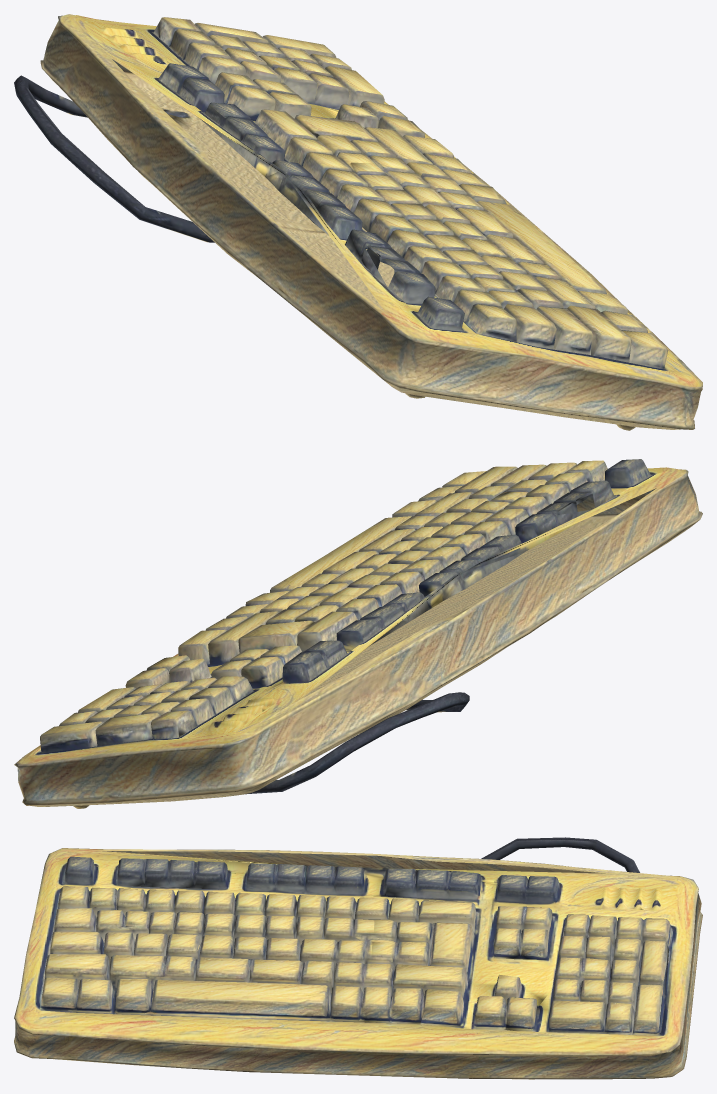
The model's file is SchoolKeyboard.fbx.
3 views of the same model, one above another, from view 1: azimuth 30°, elevation 25°; view 2: azimuth 150°, elevation 25°; view 3: azimuth 270°, elevation 25° (orthographic). The views are drawn at different scales.
Visible parts, largest first — view 1: tripo_node_e017a942-0e1a-43bb-ab1a-f99db1cb40b1; view 2: tripo_node_e017a942-0e1a-43bb-ab1a-f99db1cb40b1; view 3: tripo_node_e017a942-0e1a-43bb-ab1a-f99db1cb40b1.
Part boxes in pixels (x1=…): tripo_node_e017a942-0e1a-43bb-ab1a-f99db1cb40b1: x1=14, y1=14, x2=702, y2=430; tripo_node_e017a942-0e1a-43bb-ab1a-f99db1cb40b1: x1=14, y1=459, x2=702, y2=808; tripo_node_e017a942-0e1a-43bb-ab1a-f99db1cb40b1: x1=14, y1=837, x2=702, y2=1079.
Bounding box in the file's own units: 49.32 × 19.77 × 100.
Materials: 1 (1 with a texture image).
